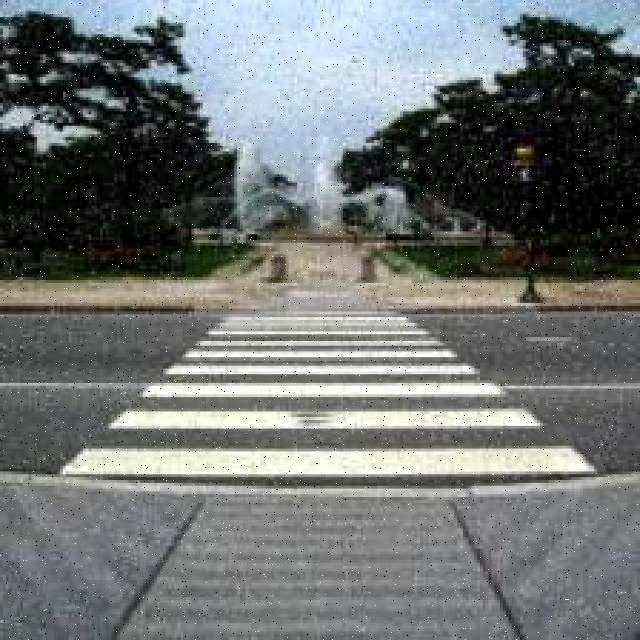crosswalk: (20, 289, 594, 502)
